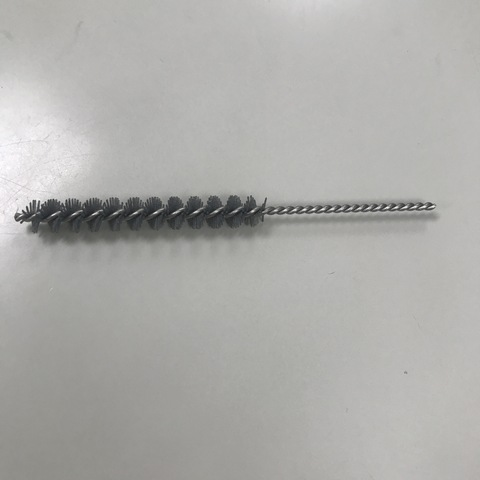Twist Brush-A: (5, 194, 433, 234)
